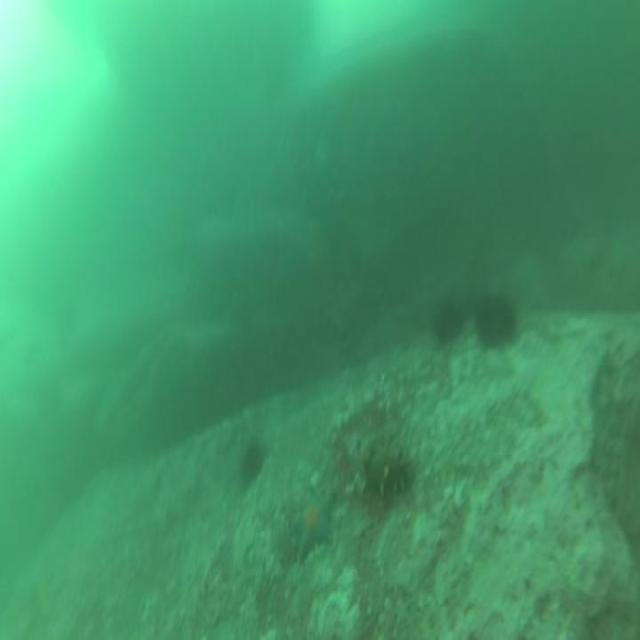echinus: (473, 289, 518, 351), (431, 294, 467, 349), (237, 433, 270, 485)
holothurian: (329, 427, 413, 499)
starfish: (284, 484, 338, 564)
